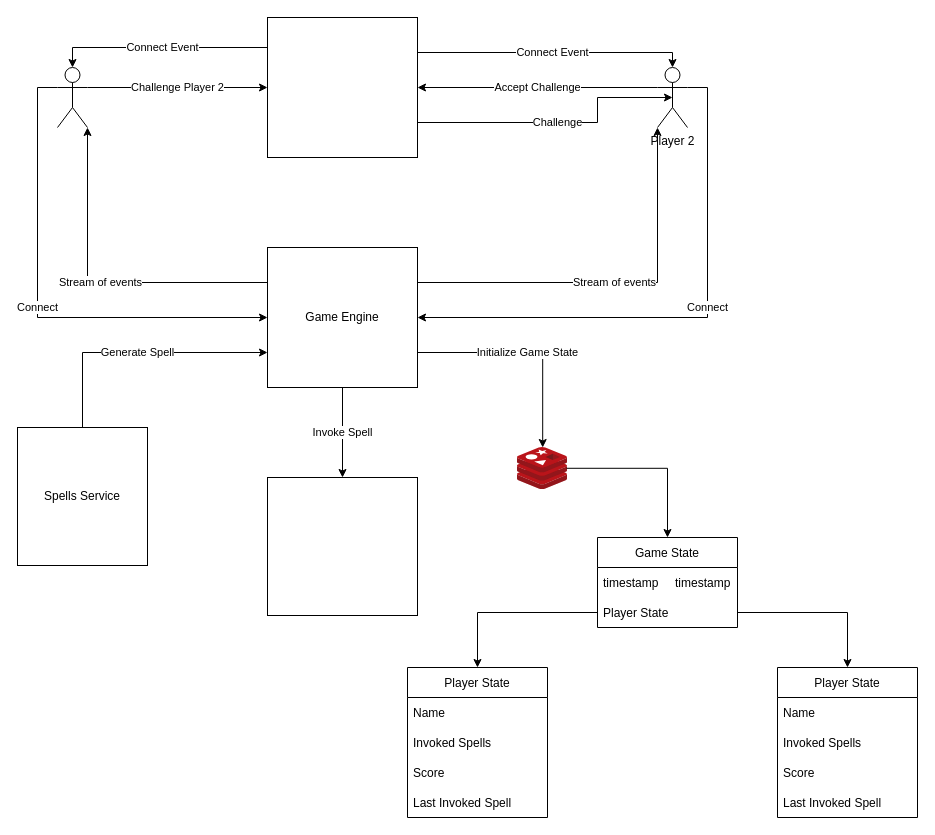
Some shapes in this 935 by 835 pixel diagram are drawn without their labels. The shapes that lost their labels are listed below. From the top down, each one's box as (x1, y1, x2, y2) in pixels, then its label:
(56, 66, 88, 128): Player 1
(266, 16, 418, 158): Challenge Service
(266, 476, 418, 616): Invokation Service
